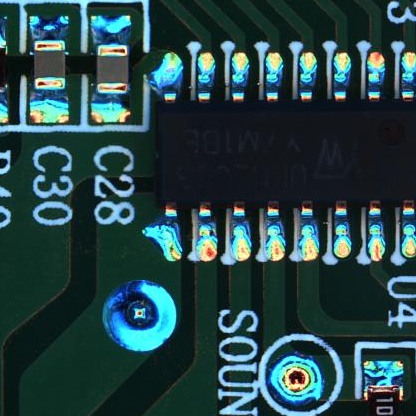spot: (101, 279, 178, 354), (268, 352, 327, 410)
